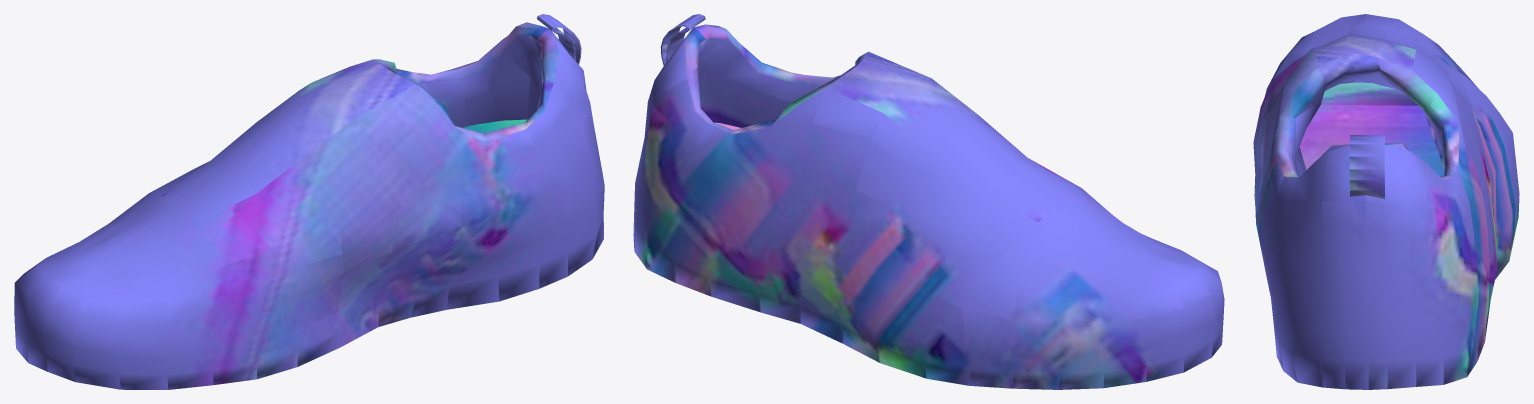
Rendered from Shoe.glb.
3 renders of one model, left to right at view 1: azimuth 30°, elevation 25°; view 2: azimuth 150°, elevation 25°; view 3: azimuth 270°, elevation 25°, orthographic. The views are drawn at different scales.
Visible parts, largest first — view 1: Shoe; view 2: Shoe; view 3: Shoe.
Boxes of the visible parts, x1,y1,x2,y2 form: Shoe: (14,14,604,389); Shoe: (633,14,1224,389); Shoe: (1253,14,1519,389).
Bounding box in the file's own units: 3.46 × 1.39 × 1.27.
1 material, 1 textured.
